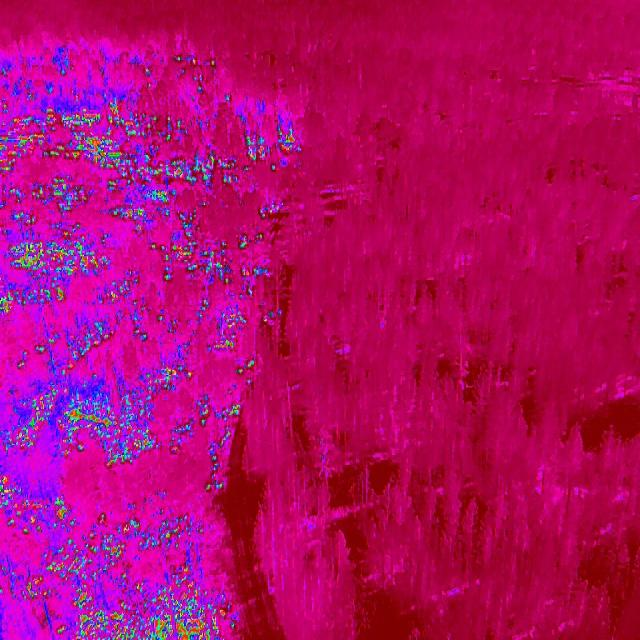fire: (9, 356, 199, 466), (0, 475, 137, 607), (0, 178, 146, 282), (143, 114, 305, 204), (0, 100, 146, 176), (58, 579, 238, 640), (144, 212, 237, 286), (195, 386, 244, 498), (0, 280, 134, 312), (137, 512, 200, 576), (39, 323, 115, 358), (236, 233, 271, 297), (169, 54, 222, 94), (209, 305, 250, 353), (233, 355, 263, 381)
